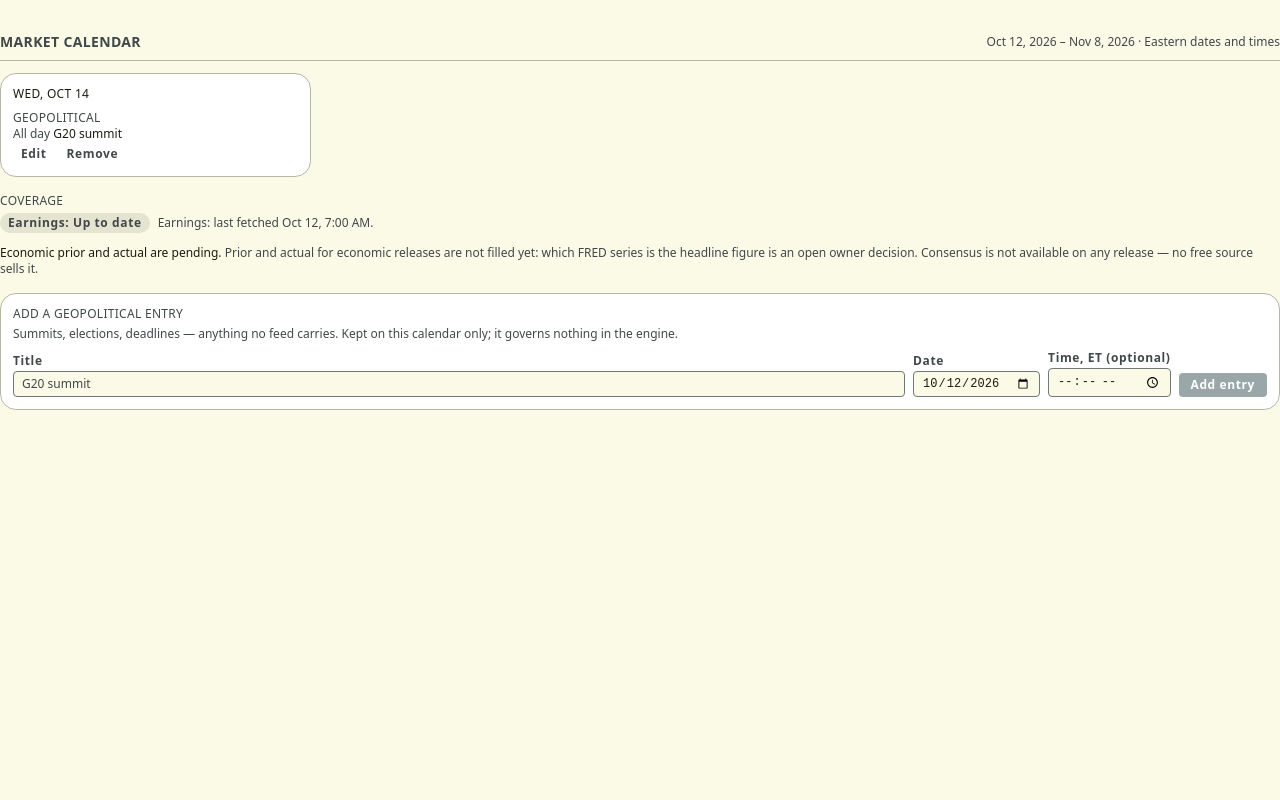
Test case: the manual-entry form › sends nothing when the remove confirm is cancelled
Click the button with aria-label "Remove G20 summit".
click(92, 154)  # box left=59, top=144, right=126, bottom=164
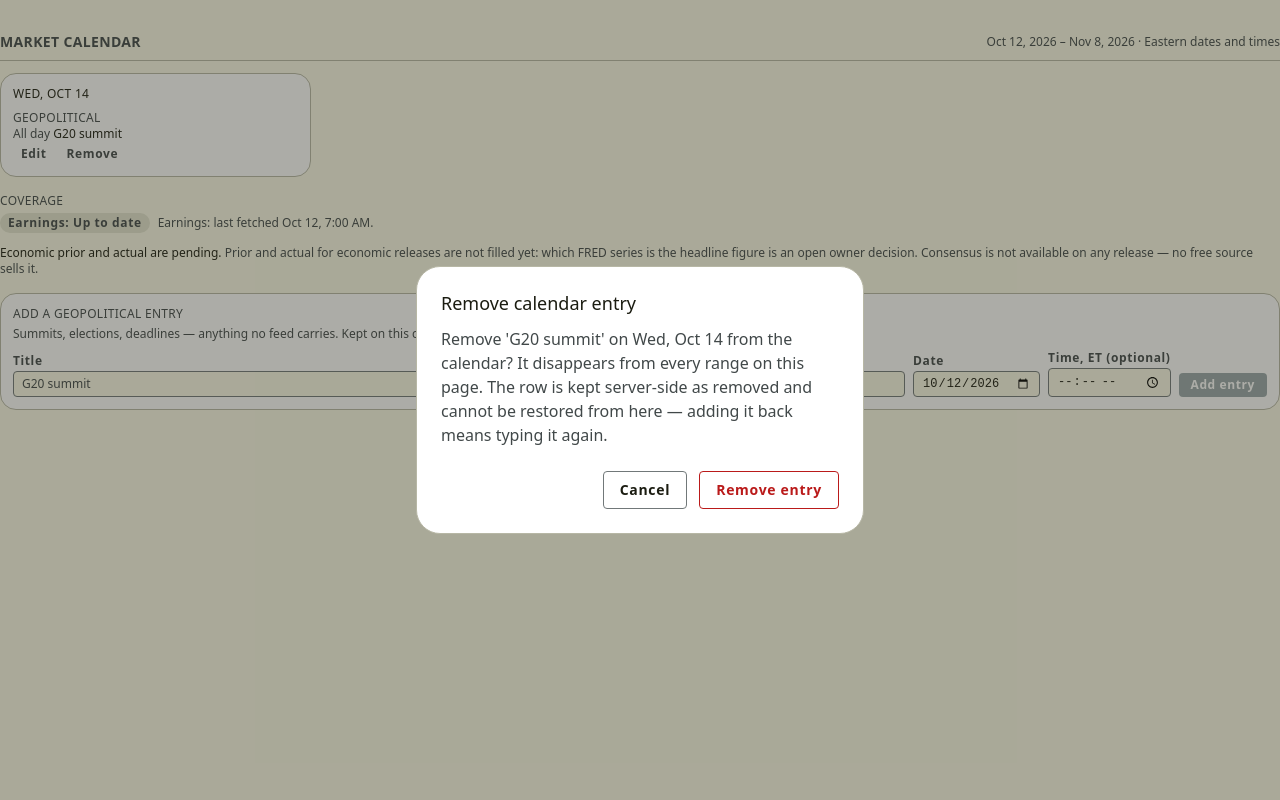
Click the button "Cancel".
click(645, 490)  # box left=603, top=471, right=687, bottom=509
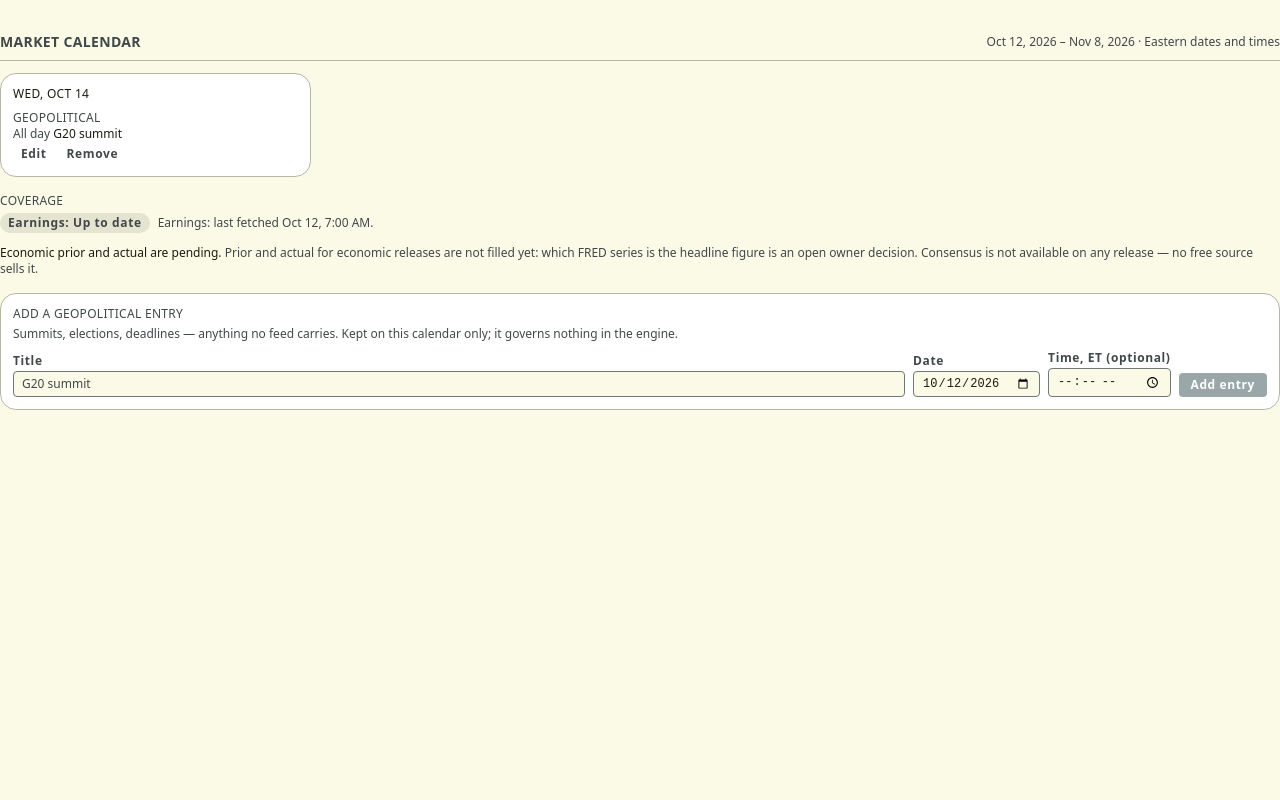
Result: the dialog is gone
